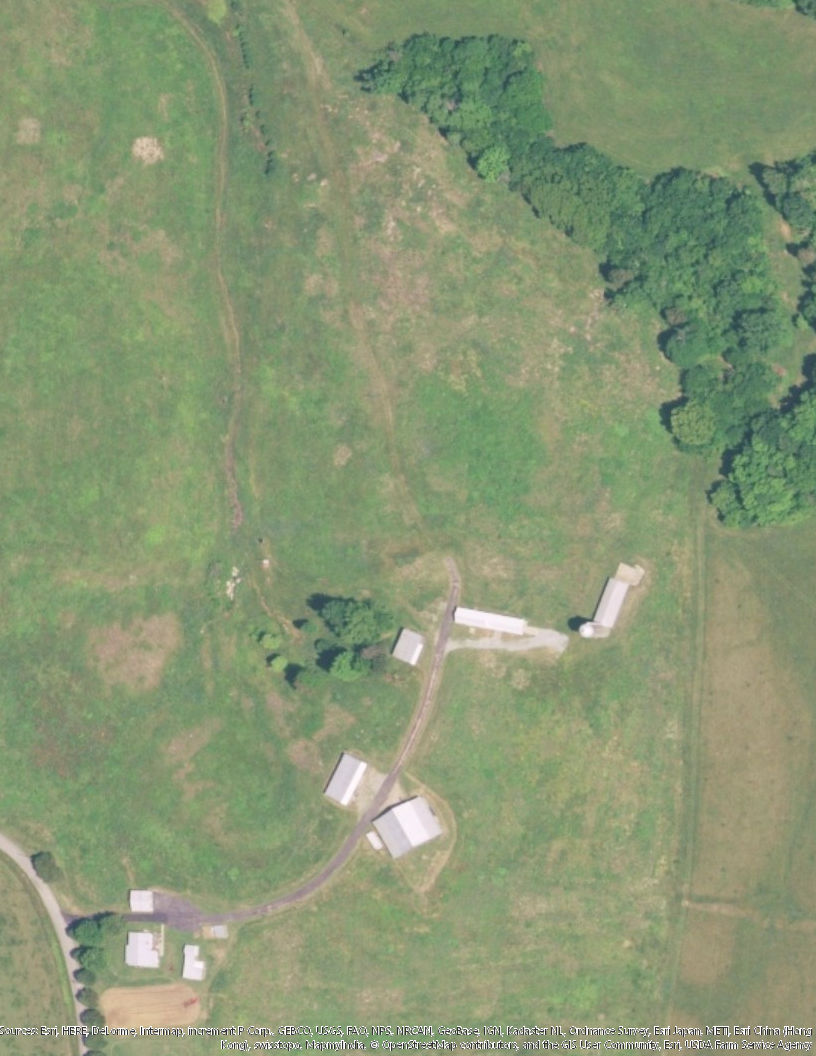cafo: (591, 563, 637, 631), (455, 605, 528, 637)
